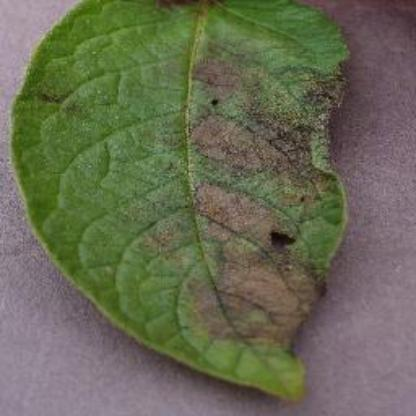Late-Blight: (7, 6, 383, 406)
